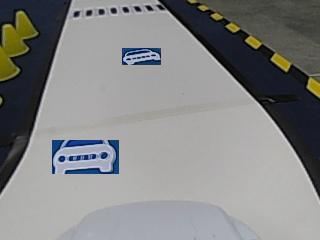crosswalk: (72, 4, 167, 17)
